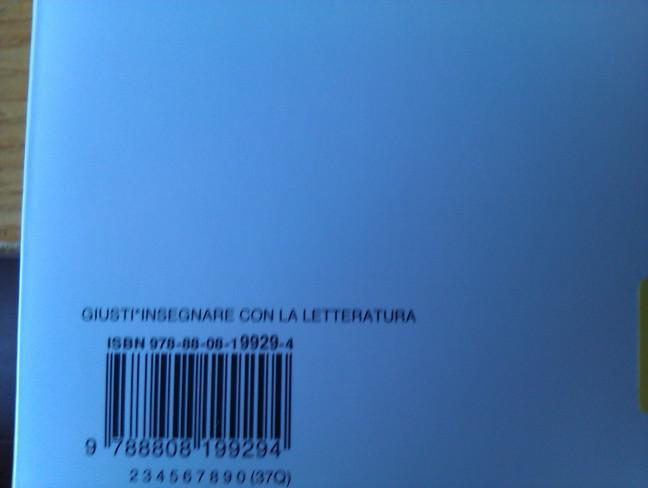Barkod: (75, 349, 309, 461)
